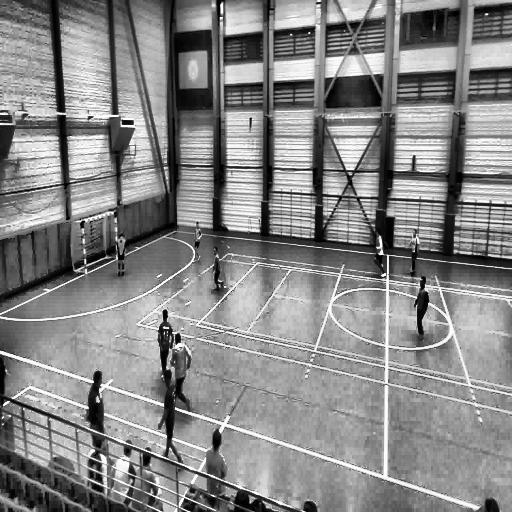player: (159, 368, 186, 473), (132, 448, 164, 510), (168, 332, 192, 409), (87, 435, 112, 497), (204, 429, 227, 495), (86, 372, 105, 445), (114, 442, 135, 504), (158, 307, 172, 381), (414, 276, 429, 341), (191, 220, 204, 266), (374, 230, 386, 278), (213, 246, 225, 292), (410, 228, 420, 275), (117, 232, 127, 278)
